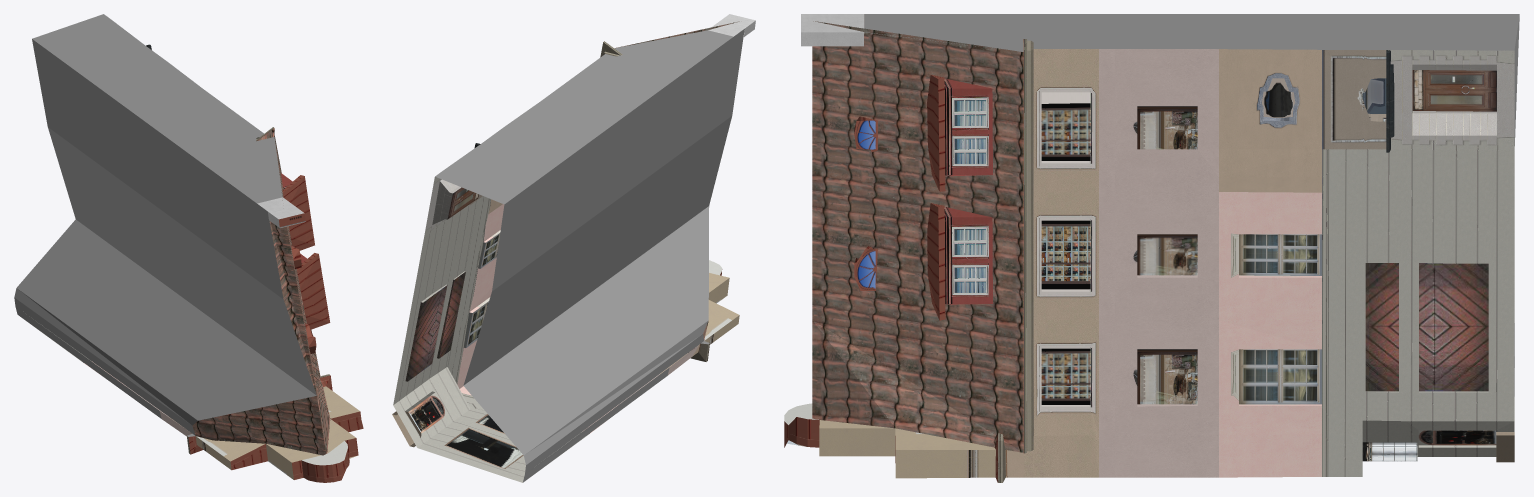
Rendered from 8b-origo.obj.
3 views of the same model, side by side, from view 1: azimuth 30°, elevation 25°; view 2: azimuth 150°, elevation 25°; view 3: azimuth 270°, elevation 25° (orthographic). The views are drawn at different scales.
Parts seen in each view (by area): view 1: 8b; view 2: 8b; view 3: 8b.
Boxes of the visible parts, left/top/right/bottom form: 8b: left=14, top=14, right=363, bottom=482; 8b: left=392, top=14, right=755, bottom=482; 8b: left=784, top=14, right=1519, bottom=482.
Bounding box in the file's own units: 8.5 × 16.5 × 25.38.
